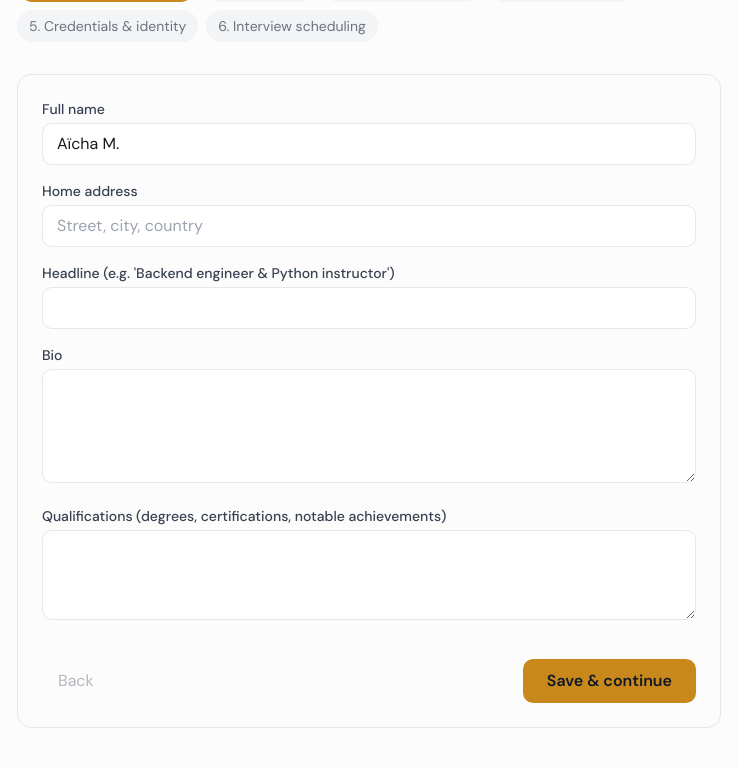
Scenario: ApplicationWizard tutoring section › pre-fills from an existing application that already opted in
The width and height of the screenshot is (738, 767).
(page scrolled)
What coordinates should you click on to do the following:
click the button "Save & continue"
I would click on:
 (609, 681)
Its box is [523,659,696,703].
(page scrolled)
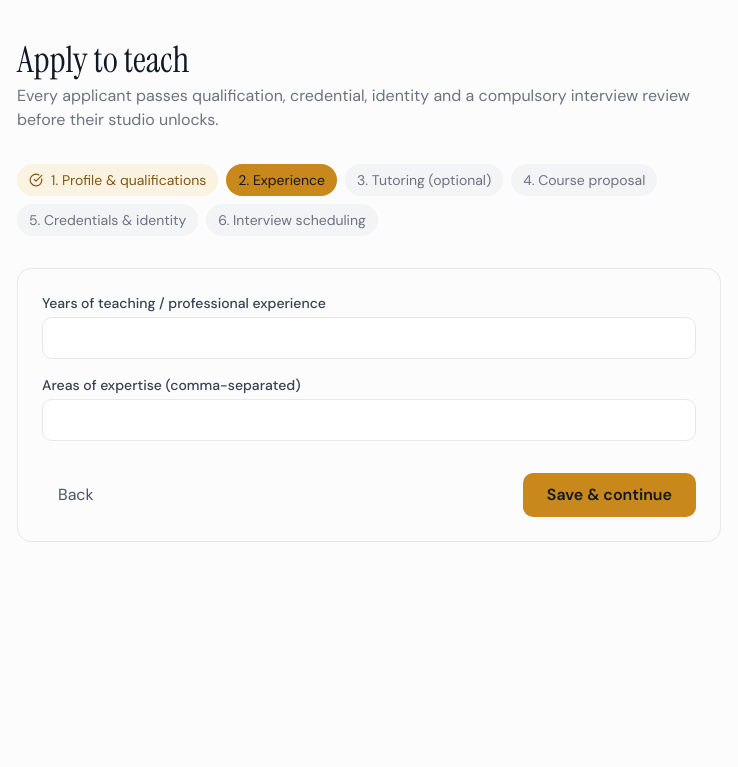
expect the list item "2. Experience" is shown: met, box [226,164,337,196]
What coordinates should you click on to do the following:
click the button "Save & continue"
I would click on:
 (609, 495)
Its box is [523,473,696,517].
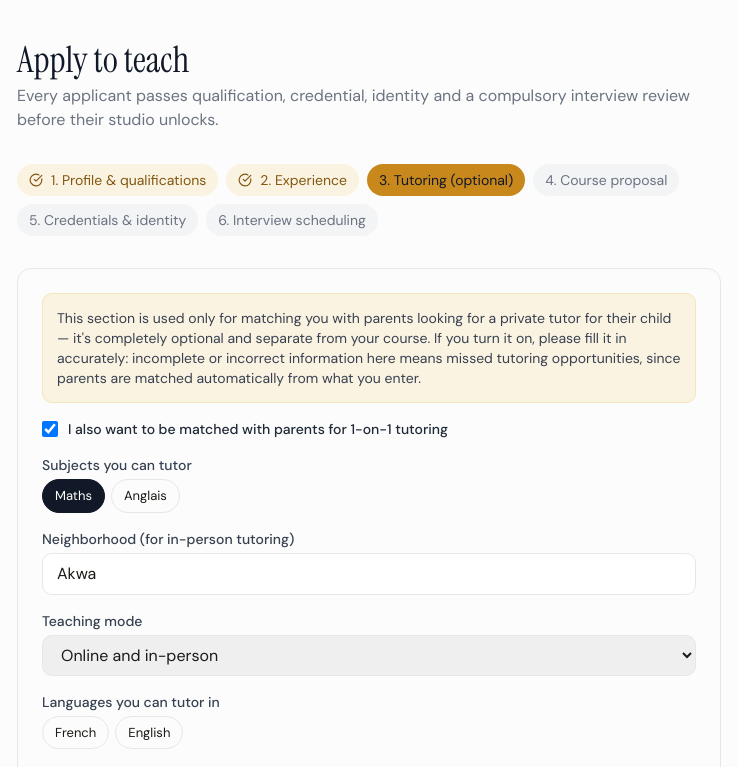
expect the list item "3. Tutoring (optional)" is shown: met, box [367,164,525,196]
expect the checkbox labelled "I also want to be matched with parents for 1-on-1 tutoring" is checked: met, box [42,421,58,437]
expect the field showing "Akwa" is shown: met, box [42,552,696,594]
